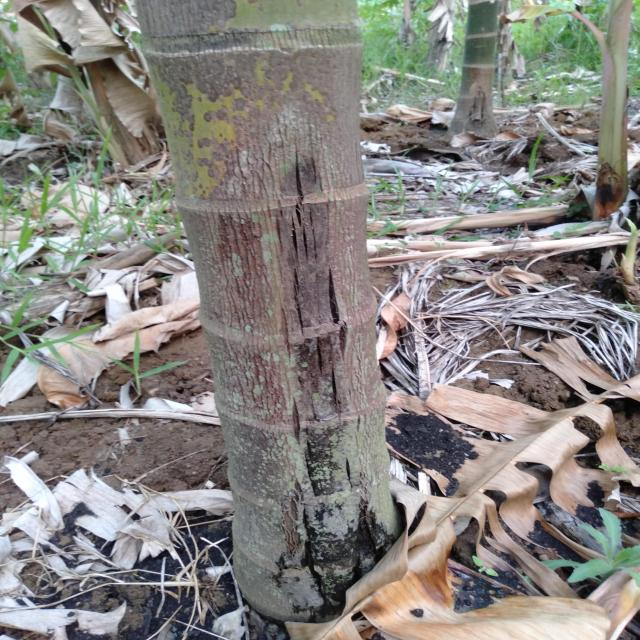Stem_Cracking: (146, 175, 515, 590)
